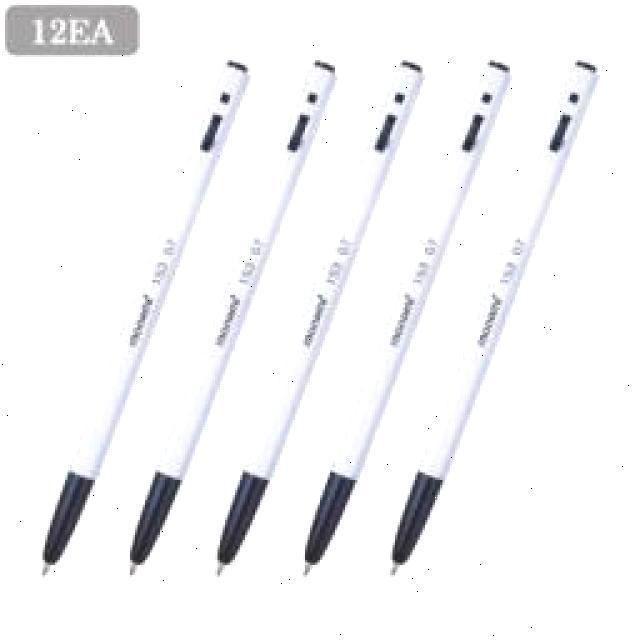pen: (37, 58, 255, 578), (300, 60, 518, 578), (125, 58, 340, 578), (215, 60, 428, 575), (395, 60, 600, 575)
